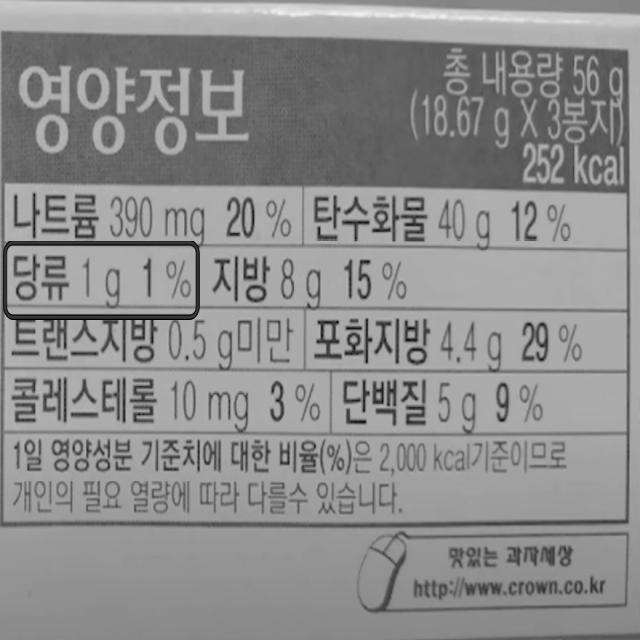Nutrition Label: (1, 28, 634, 532)
